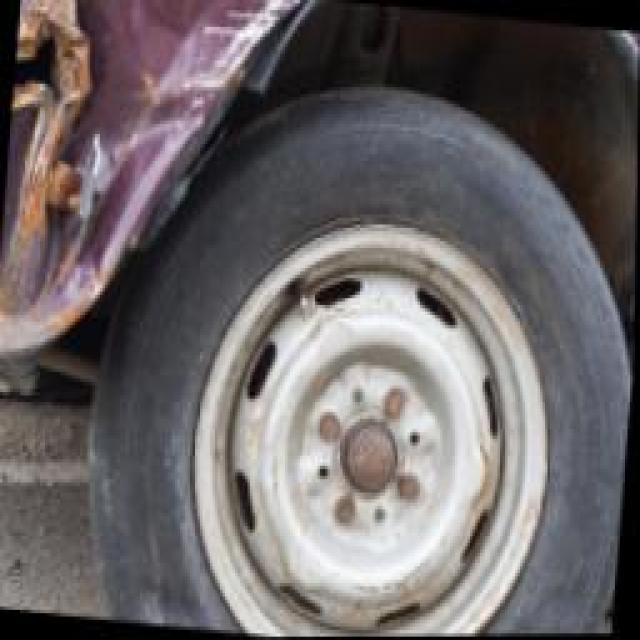Bumper: (0, 0, 285, 362)
